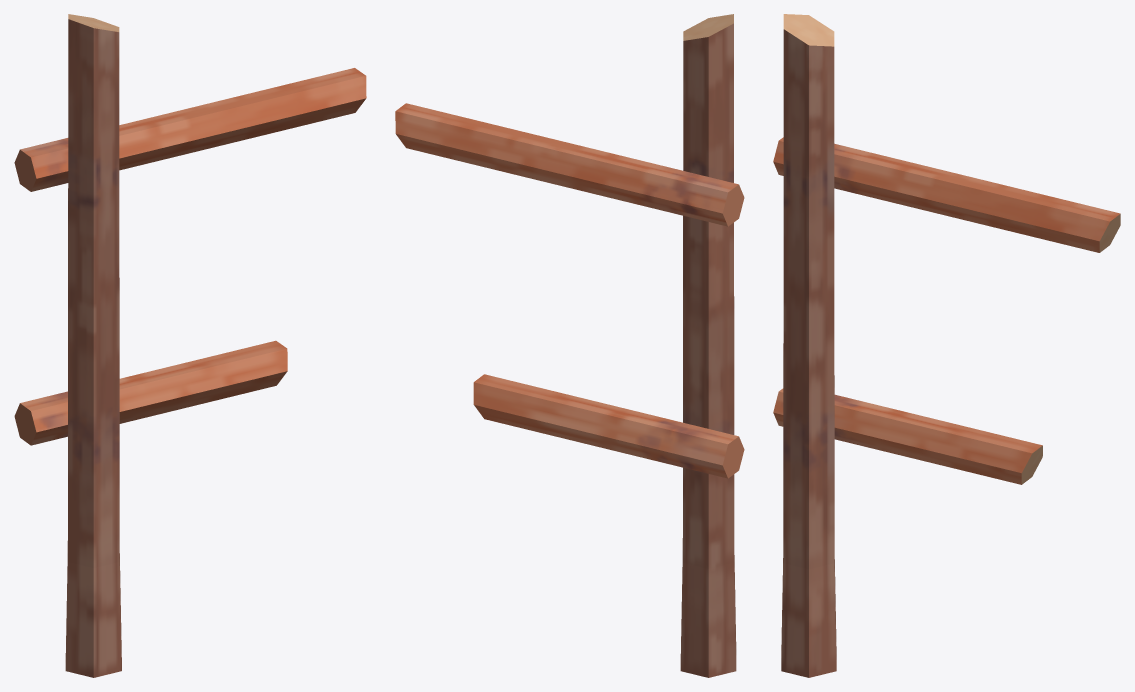
File: ladder_s01.fbx
3 views of the same model, side by side, from view 1: azimuth 30°, elevation 25°; view 2: azimuth 150°, elevation 25°; view 3: azimuth 330°, elevation 25° (orthographic).
Visible parts, largest first — view 1: ladder_s01; view 2: ladder_s01; view 3: ladder_s01.
Part boxes in pixels (left/top/right/bottom): ladder_s01: left=14, top=14, right=366, bottom=677; ladder_s01: left=395, top=14, right=744, bottom=677; ladder_s01: left=773, top=14, right=1120, bottom=677.
Size of the model in its own units: 1.94 by 3.6 by 0.4663.
